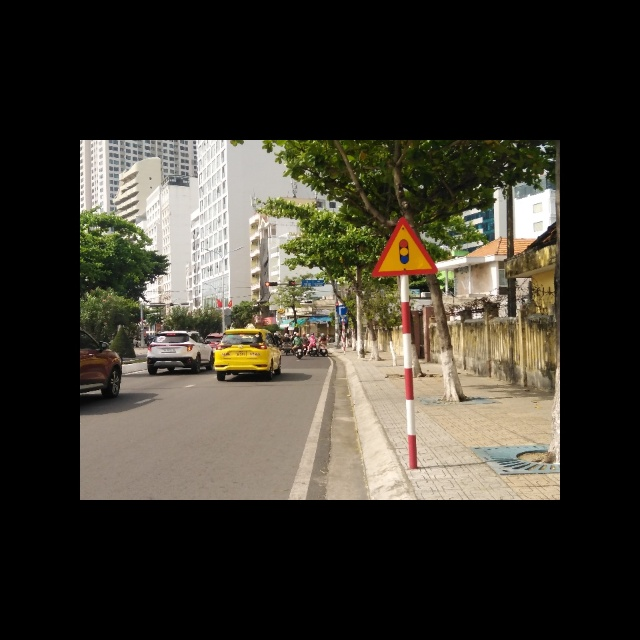Giao nhau có tín hiệu đèn: (372, 213, 440, 278)
